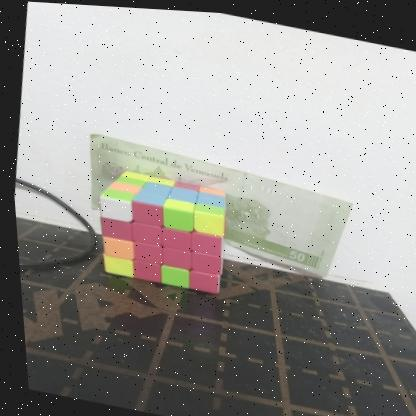fifty-back-vef: (72, 130, 356, 277)
